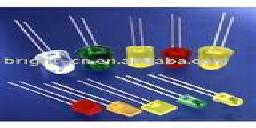LED: (197, 12, 236, 73), (123, 10, 154, 68), (163, 10, 191, 72), (76, 38, 121, 71), (32, 47, 72, 75), (208, 86, 243, 109), (174, 91, 208, 114), (69, 96, 102, 112)
